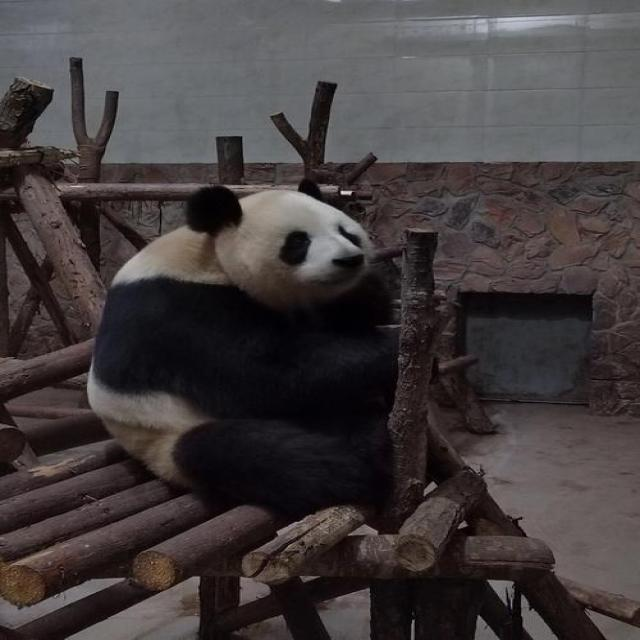panda: (89, 162, 487, 525)
